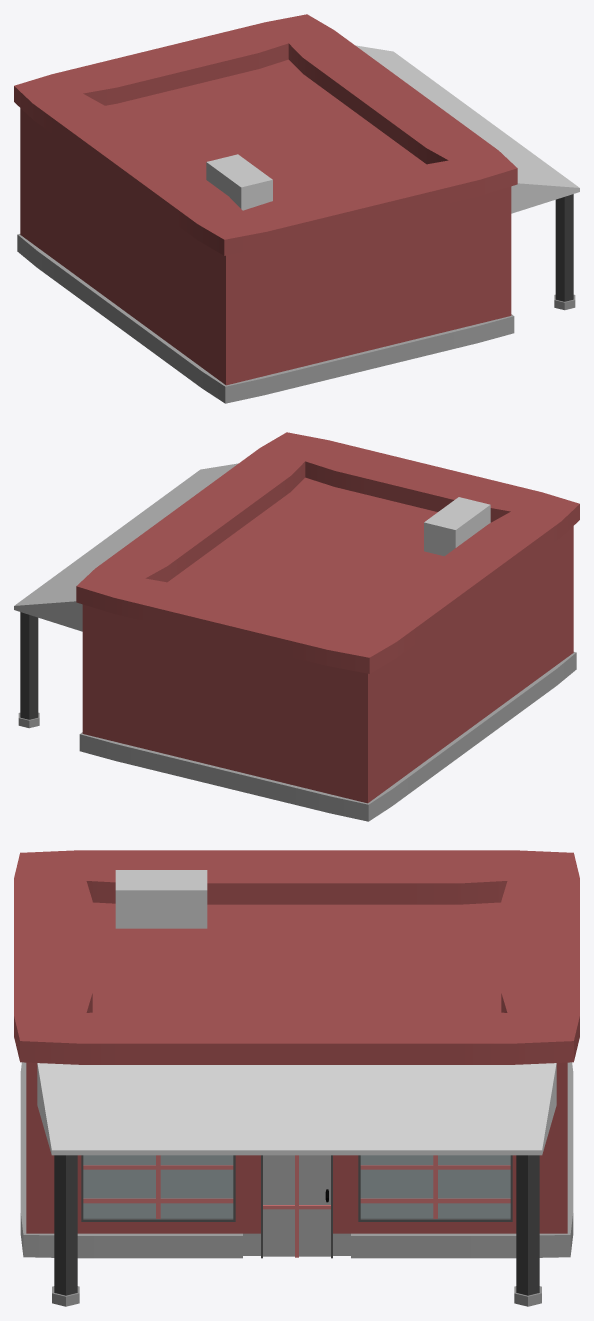
File: Building_14.fbx
3 views of the same model, one above another, from view 1: azimuth 30°, elevation 25°; view 2: azimuth 150°, elevation 25°; view 3: azimuth 270°, elevation 25° (orthographic). The views are drawn at different scales.
Visible parts, largest first — view 1: polySurface81; view 2: polySurface81; view 3: polySurface81.
Part boxes in pixels (x1,y1,x2,y2): polySurface81: (14,14,579,403); polySurface81: (14,432,579,821); polySurface81: (14,850,579,1306).
Bounding box in the file's own units: 12.24 × 5.6 × 12.25.
